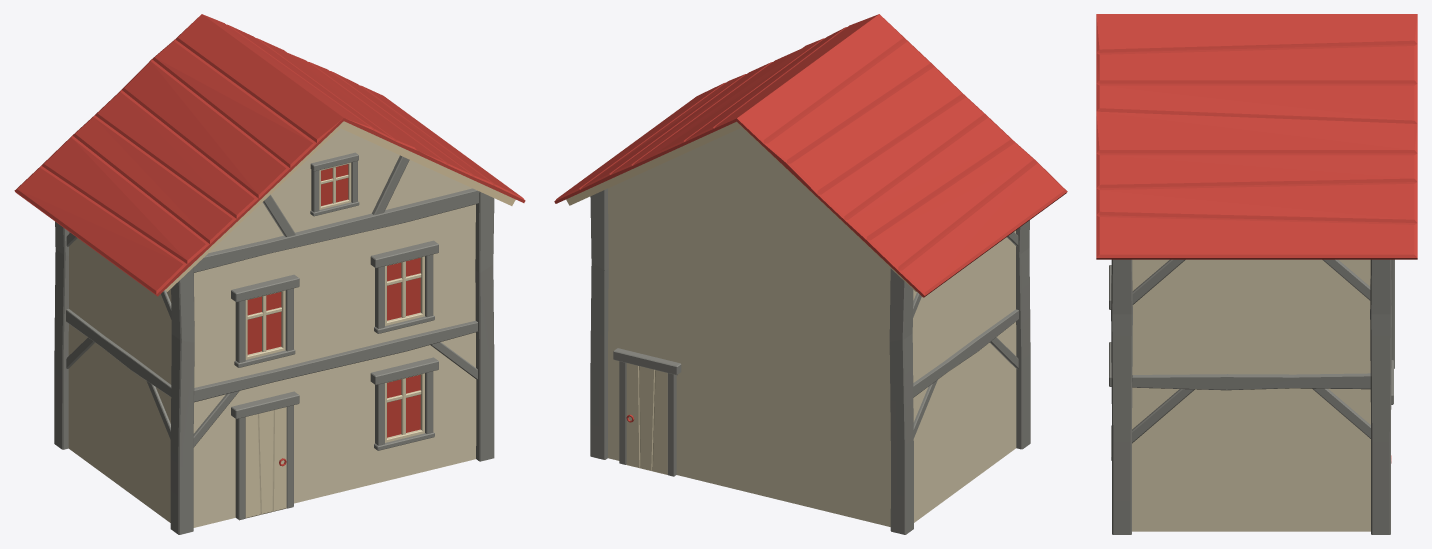
The model's file is farmbuilding_e.gltf.
The picture shows the model from 3 angles, left to right: view 1: azimuth 30°, elevation 25°; view 2: azimuth 150°, elevation 25°; view 3: azimuth 270°, elevation 25°; orthographic projection. The views are drawn at different scales.
Parts seen in each view (by area): view 1: Box342, Line012, Box373, farmbuilding_e001, Box364, Box353, Line011; view 2: Box342, Line012, Box373, Box364, Line011; view 3: Line012, Box342, Box373.
Boxes of the visible parts, x1,y1,x2,y2 form: Box342: (68,128,476,527); Line012: (14,14,525,296); Box373: (54,152,494,534); farmbuilding_e001: (247,164,420,466); Box364: (245,407,286,518); Box353: (245,162,424,442); Line011: (165,121,515,291); Box342: (608,127,1016,526); Line012: (554,14,1067,297); Box373: (590,188,1030,534); Box364: (626,363,667,474); Line011: (566,121,916,291); Line012: (1096,14,1417,259); Box342: (1132,259,1370,531); Box373: (1109,259,1394,534).
Bounding box in the file's own units: 7.29 × 7.25 × 4.86.
1 material, 1 textured.
